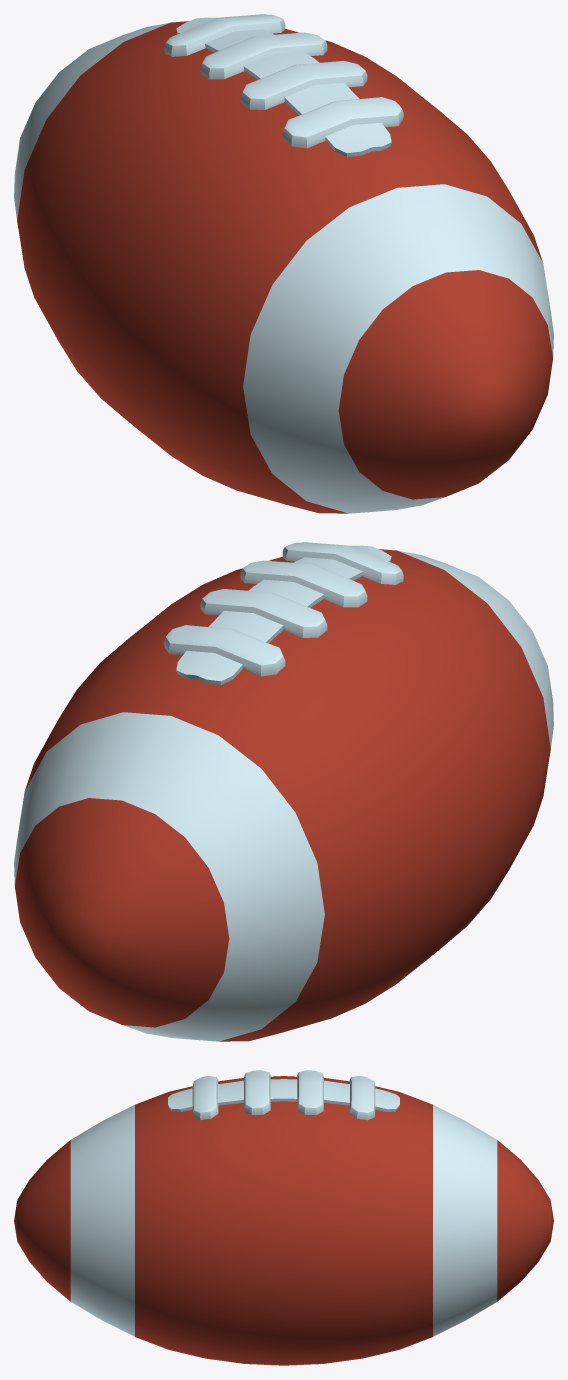
Rendered from FOOTBALL.fbx.
3 views of the same model, one above another, from view 1: azimuth 30°, elevation 25°; view 2: azimuth 150°, elevation 25°; view 3: azimuth 270°, elevation 25° (orthographic). The views are drawn at different scales.
Parts seen in each view (by area): view 1: FOOTBALL; view 2: FOOTBALL; view 3: FOOTBALL.
Boxes of the visible parts, box(x1,y1,x2,y2) form: FOOTBALL: box(14, 14, 553, 513); FOOTBALL: box(14, 542, 553, 1041); FOOTBALL: box(14, 1070, 553, 1365).
Bounding box in the file's own units: 1.45 × 1.49 × 2.69.
